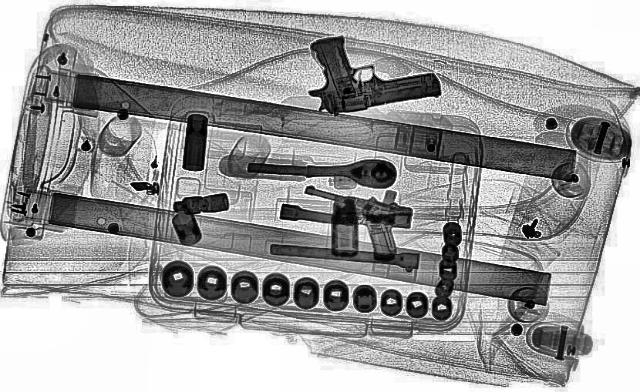Gun: (279, 23, 447, 117), (268, 180, 430, 262)
